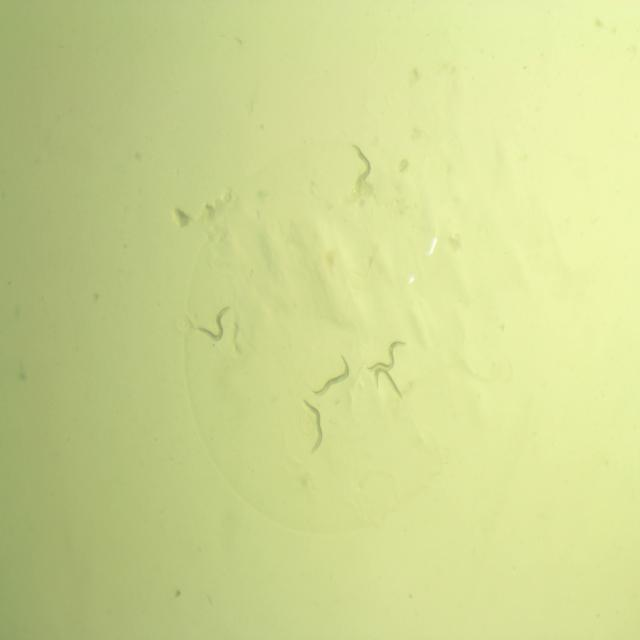worm: (308, 351, 351, 397), (197, 302, 232, 344), (365, 338, 407, 372), (301, 396, 324, 456), (350, 143, 372, 197), (374, 368, 404, 400)
